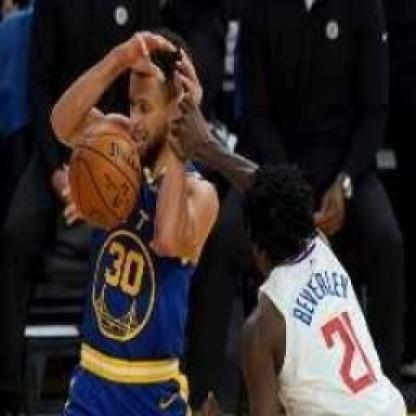basketball: (72, 125, 139, 221)
